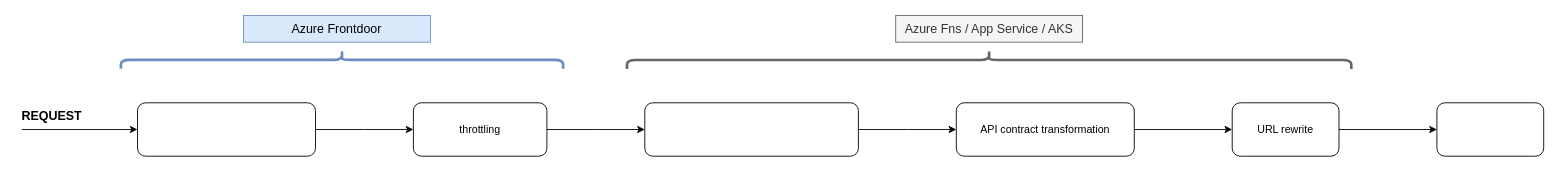
Image size: 1559x173. Some labels were removed from this diagram. Here are the shapes that lost their labels. From the top down, the centre of each, then its label:
At [226,129]: "global software load balancing".
At [751,129]: "Json Web Token (JWT) termination".
At [1490,129]: "service".
